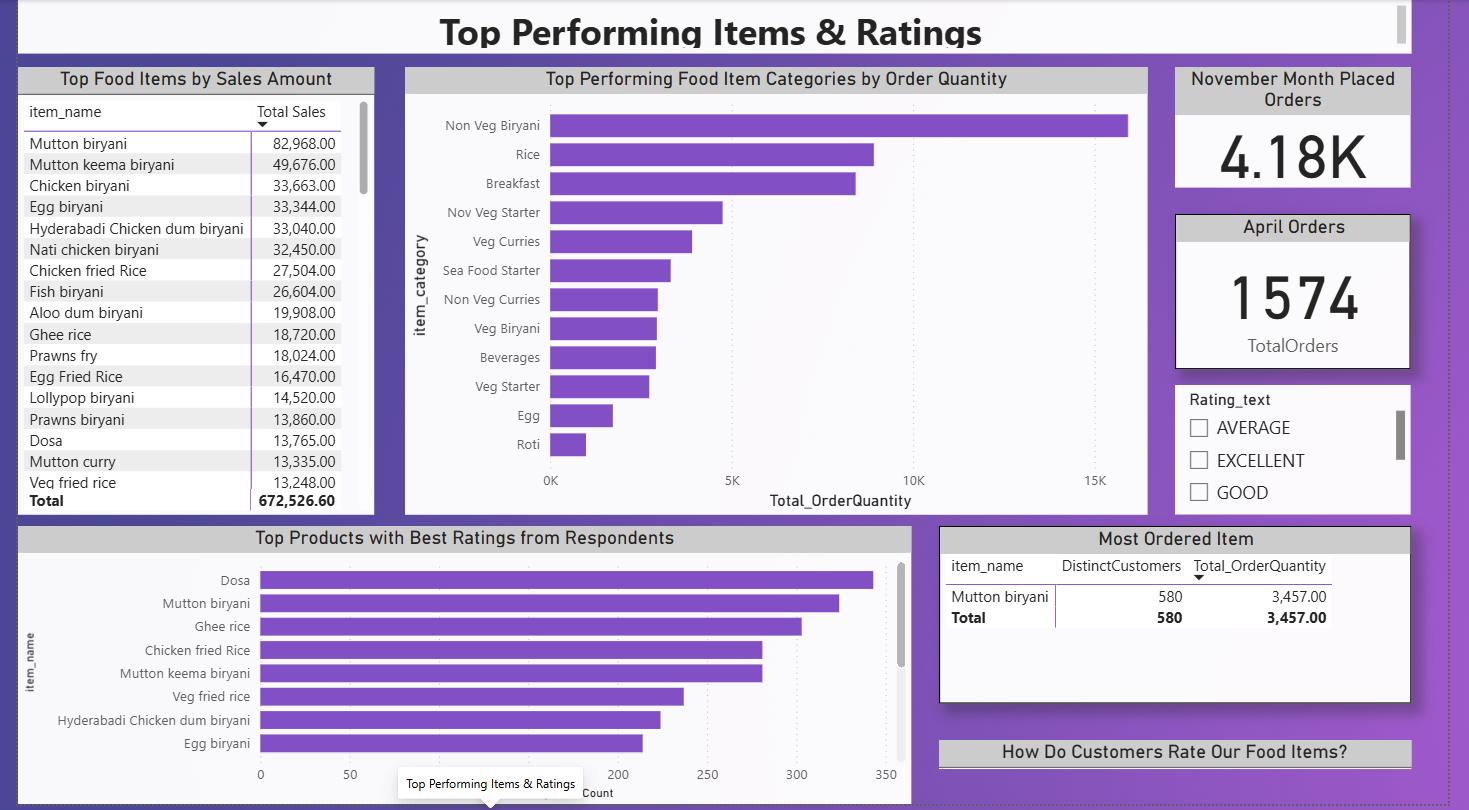

The page's visual inventory and layout, read from the dashboard file:
{"tool":"powerbi","page":{"name":"Top Performing Items & Ratings","canvas":[1280,720],"ordinal":1},"visuals":[{"type":"pivotTable","title":"Top Food Items by Sales Amount","fields":{"Rows":["Dim_Menu Items.item_name"],"Values":["DAX Measures.Total Sales"]},"box":[0,60,318.8,401.2],"z":0},{"type":"clusteredBarChart","title":"Top Performing Food Item Categories by Order Quantity","fields":{"Category":["Dim_Menu Items.item_category"],"Y":["DAX Measures.Total_OrderQuantity"]},"box":[346.2,60,665,401.2],"z":1000},{"type":"card","title":"November Month Placed Orders","fields":{"Values":["DAX Measures.Total_OrderQuantity"]},"box":[1036.1,60,211.3,108.4],"z":2000},{"type":"pivotTable","title":"Most Ordered Item","fields":{"Rows":["Dim_Menu Items.item_name"],"Values":["DAX Measures.DistinctCustomers","DAX Measures.Total_OrderQuantity"]},"box":[824.7,470.7,422.6,159.2],"z":3000},{"type":"clusteredBarChart","title":"Top Products with Best Ratings from Respondents","fields":{"Category":["Dim_Menu Items.item_name"],"Y":["DAX Measures.TopRatedCount"]},"box":[0,470.7,800,249.7],"z":4000},{"type":"actionButton","title":"How Do Customers Rate Our Food Items?","box":[824.7,662.8,422.6,26.1],"z":5000},{"type":"card","title":"April Orders","fields":{"Values":["DAX Measures.TotalOrders"]},"box":[1036.1,191.6,211.3,138.8],"z":6000},{"type":"slicer","fields":{"Values":["Fact_Order Details.Rating_text"]},"box":[1036.1,344.8,211.3,116.4],"z":7000},{"type":"textbox","box":[0,0,1247.5,47.5],"z":8000}]}

Visuals, with their boxes in screenshot pixels (x1, y1, x2, y2), scaled from the page's 1280x720 canvas onto the 1469x810 screenshot:
"Top Food Items by Sales Amount" pivotTable: region(0, 68, 366, 519)
"Top Performing Food Item Categories by Order Quantity" clusteredBarChart: region(397, 68, 1161, 519)
"November Month Placed Orders" card: region(1189, 68, 1432, 189)
"Most Ordered Item" pivotTable: region(946, 530, 1431, 709)
"Top Products with Best Ratings from Respondents" clusteredBarChart: region(0, 530, 918, 809)
"How Do Customers Rate Our Food Items?" actionButton: region(946, 746, 1431, 775)
"April Orders" card: region(1189, 216, 1432, 372)
slicer - Fact_Order Details.Rating_text: region(1189, 388, 1432, 519)
textbox: region(0, 0, 1432, 53)
